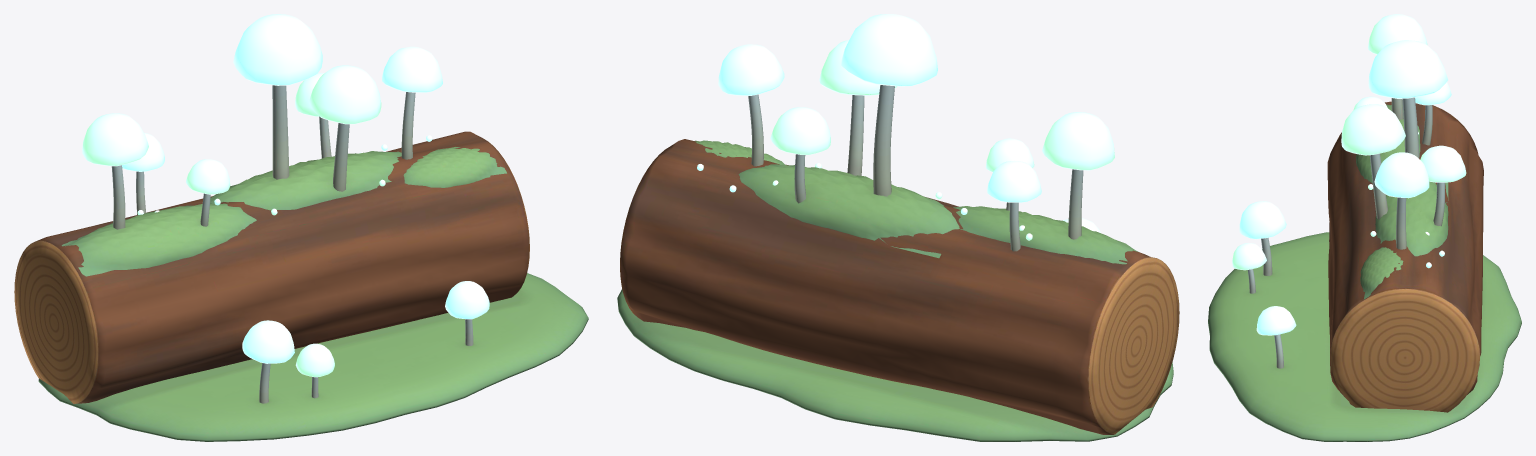
The model's file is grab3d-glowing-mushroom-log.glb.
3 views of the same model, side by side, from view 1: azimuth 30°, elevation 25°; view 2: azimuth 150°, elevation 25°; view 3: azimuth 270°, elevation 25° (orthographic). The views are drawn at different scales.
Parts seen in each view (by area): view 1: glowing-mushroom-log_body, glowing-mushroom-log_caps_glow; view 2: glowing-mushroom-log_body, glowing-mushroom-log_caps_glow; view 3: glowing-mushroom-log_body, glowing-mushroom-log_caps_glow.
Part boxes in pixels (<box>): glowing-mushroom-log_body: <box>14,85,588,441</box>; glowing-mushroom-log_caps_glow: <box>82,14,489,377</box>; glowing-mushroom-log_body: <box>617,85,1179,441</box>; glowing-mushroom-log_caps_glow: <box>697,14,1114,240</box>; glowing-mushroom-log_body: <box>1208,97,1521,441</box>; glowing-mushroom-log_caps_glow: <box>1232,14,1466,335</box>.
Bounding box in the file's own units: 0.4017 × 0.2514 × 0.2508.
3 materials, 1 textured.
